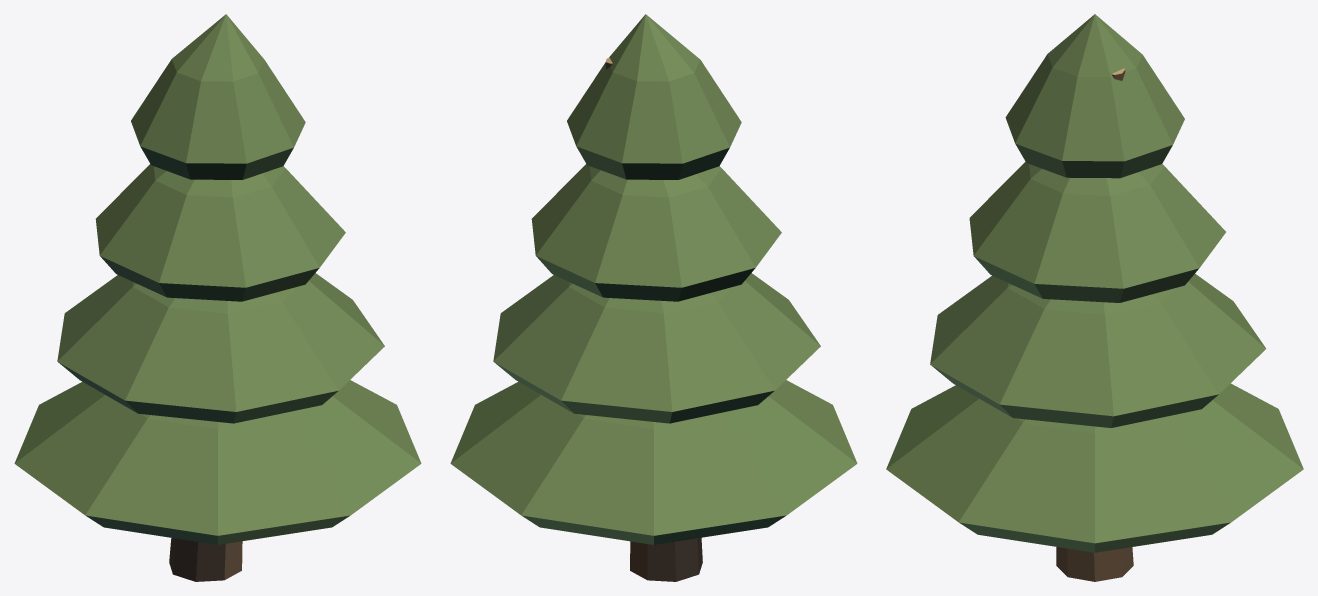
The model's file is TW_TREE_TIERED_WIDE_B_LOD0.glb.
3 views of the same model, side by side, from view 1: azimuth 30°, elevation 25°; view 2: azimuth 150°, elevation 25°; view 3: azimuth 270°, elevation 25° (orthographic). The views are drawn at different scales.
Parts seen in each view (by area): view 1: TW_TREE_TIERED_WIDE_B_LOD0; view 2: TW_TREE_TIERED_WIDE_B_LOD0; view 3: TW_TREE_TIERED_WIDE_B_LOD0.
Boxes of the visible parts, left/top/right/bottom form: TW_TREE_TIERED_WIDE_B_LOD0: left=14, top=14, right=421, bottom=581; TW_TREE_TIERED_WIDE_B_LOD0: left=450, top=14, right=857, bottom=581; TW_TREE_TIERED_WIDE_B_LOD0: left=886, top=14, right=1303, bottom=581.
Bounding box in the file's own units: 2.52 × 3.8 × 2.56.
1 material, 1 textured.
